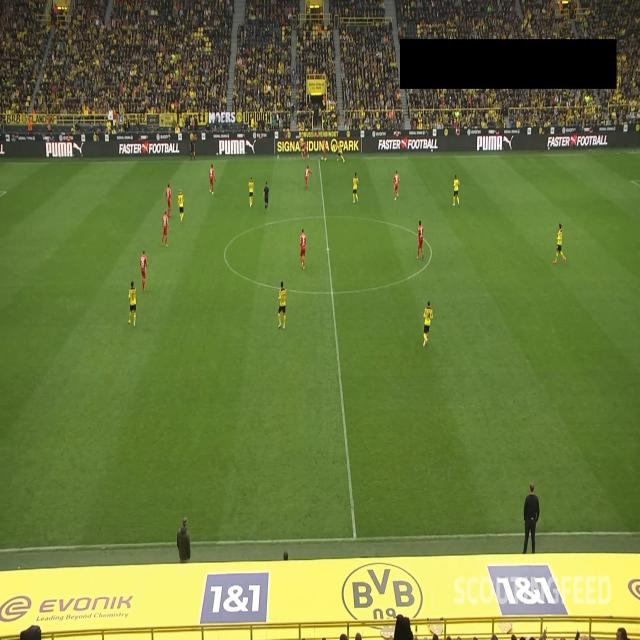ball: (321, 156, 323, 161)
